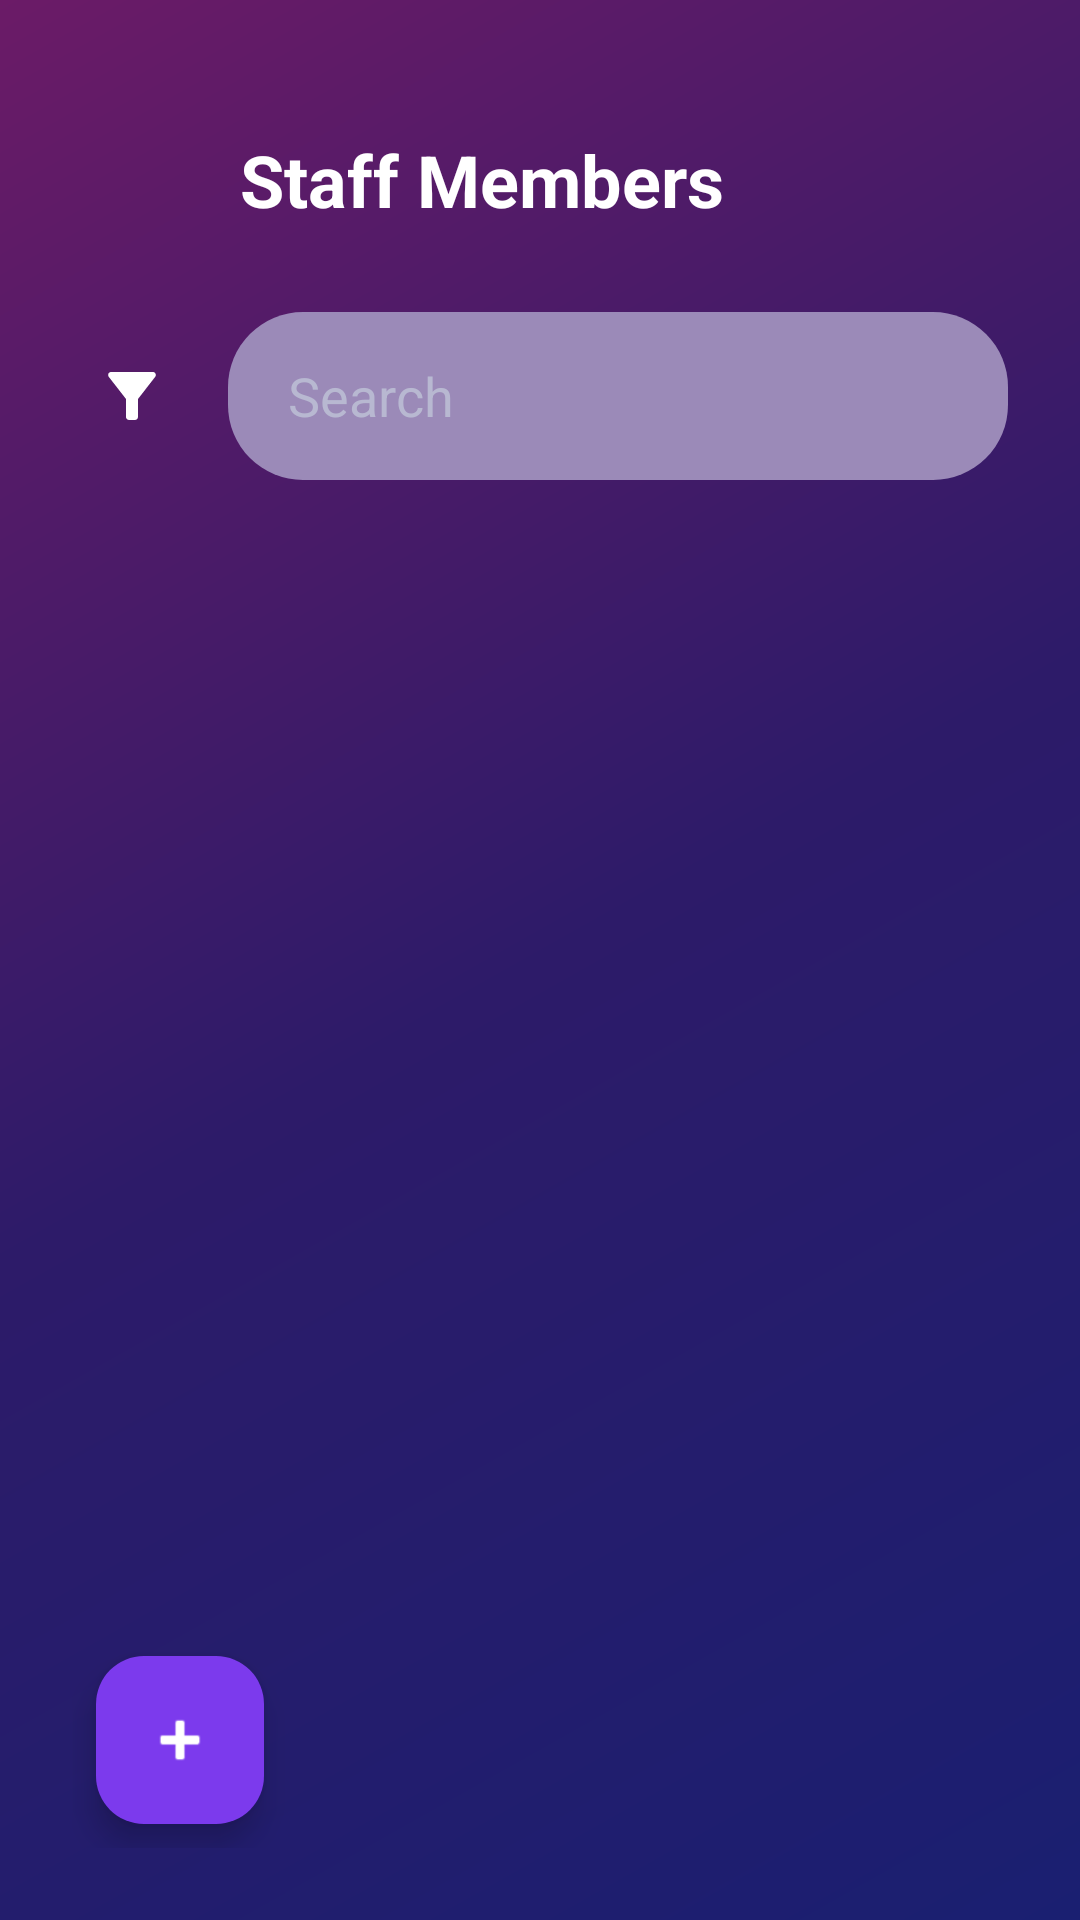

Screen size 1080*1920. Icon name, then its center in pixels as (x,y):
Add Staff: (180,1740)
Filter: (132,396)
